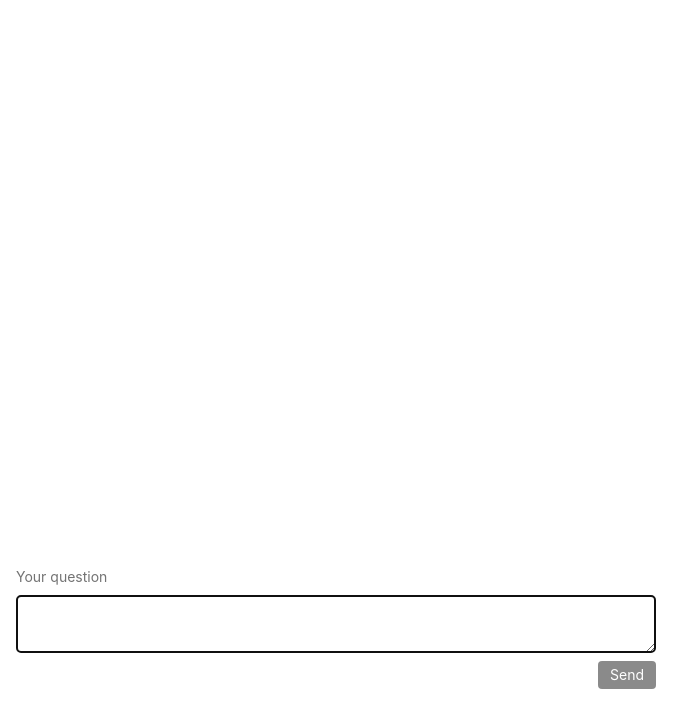
it: Chat (jsdom) › a late close of a failed run does not fail the retried turn
Type "q" into the text box labelled "Your question" at (336, 624), box [16,595,656,653]
Then press Enter
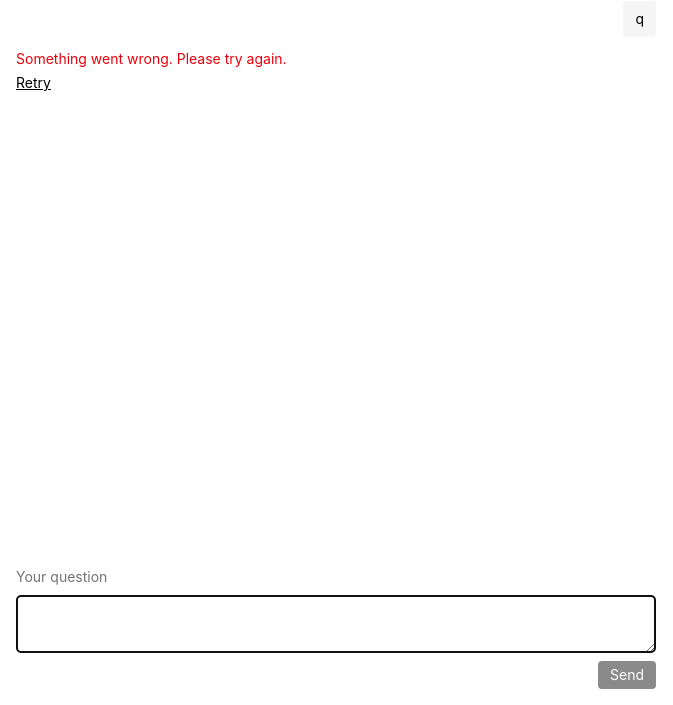
Click the button "Retry" at (33, 83), box [16,73,51,93]
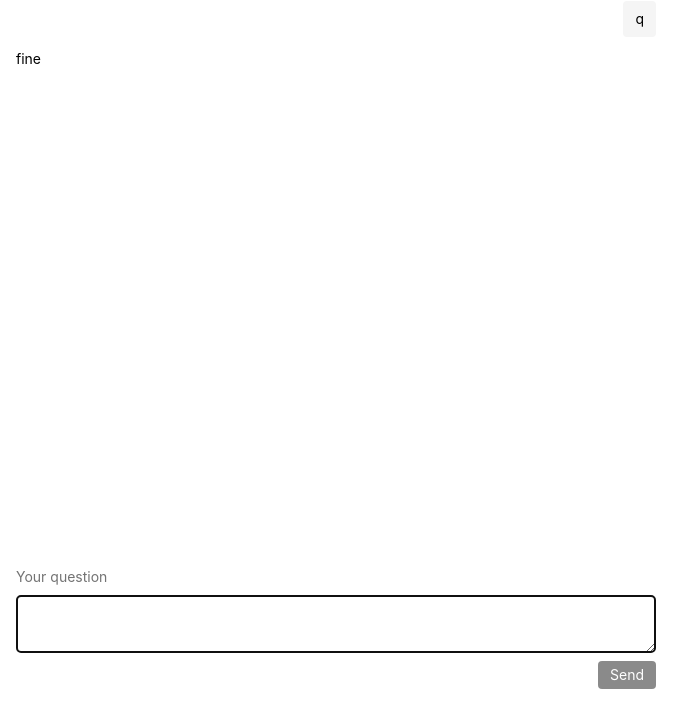
Expected: the text "Something went wrong. Please try again." is gone
Expected: the text "fine" is shown, [16,49,41,69]
